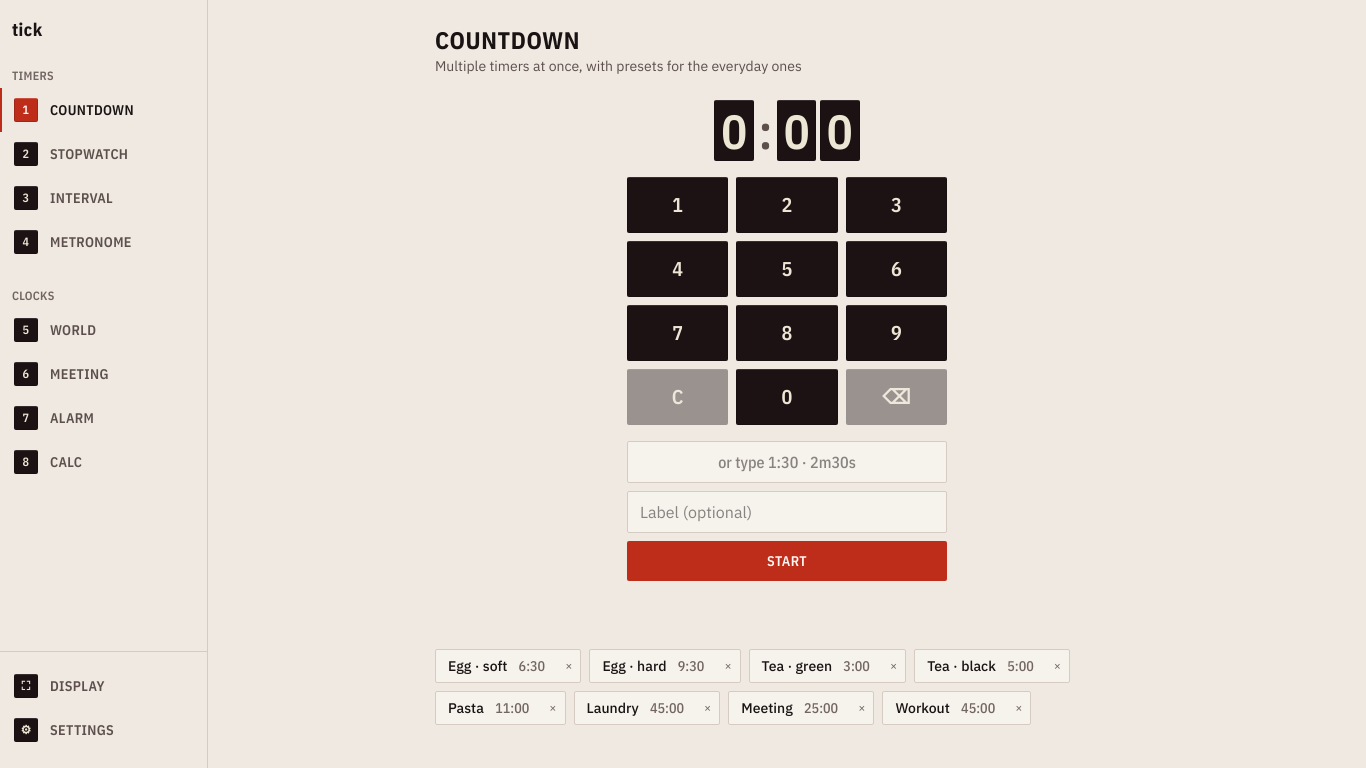
Test: every tool, end to end › metronome: a tempo change keeps the run alive
Press 4
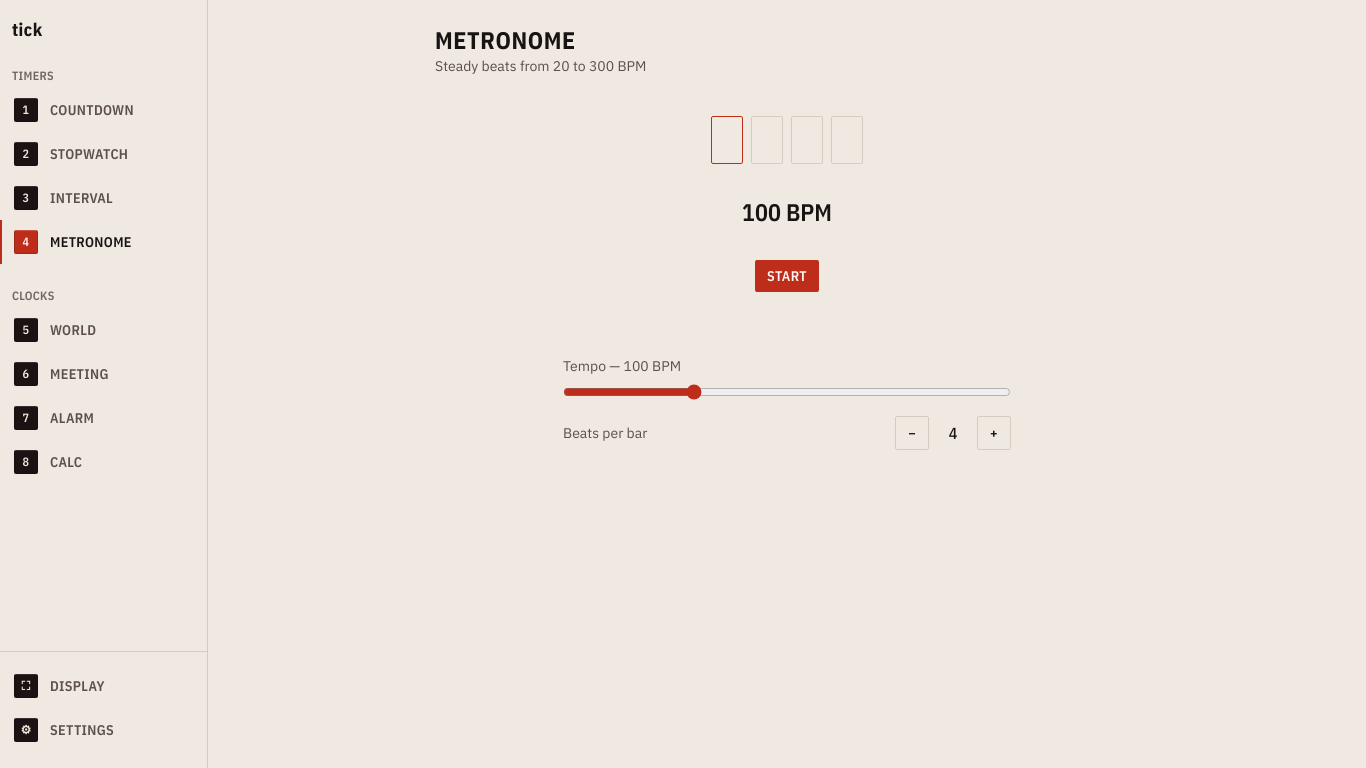
Check: the heading "Metronome" is shown, box [435,24,576,56]
Click the button "Start". click: point(787, 276)
box: [755,260,819,292]
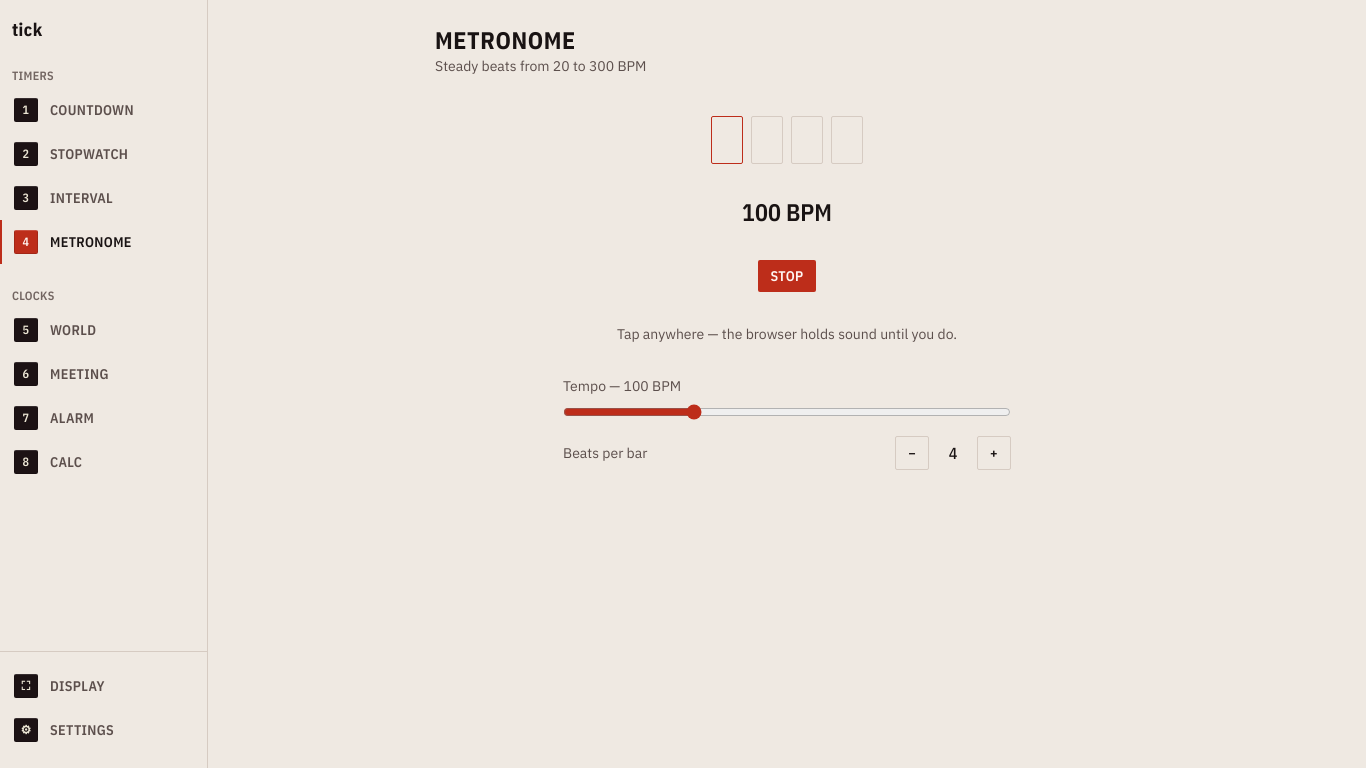
Set the slider labelled "Tempo" to "180". click: point(818, 412)
box: [563,404,1011,420]
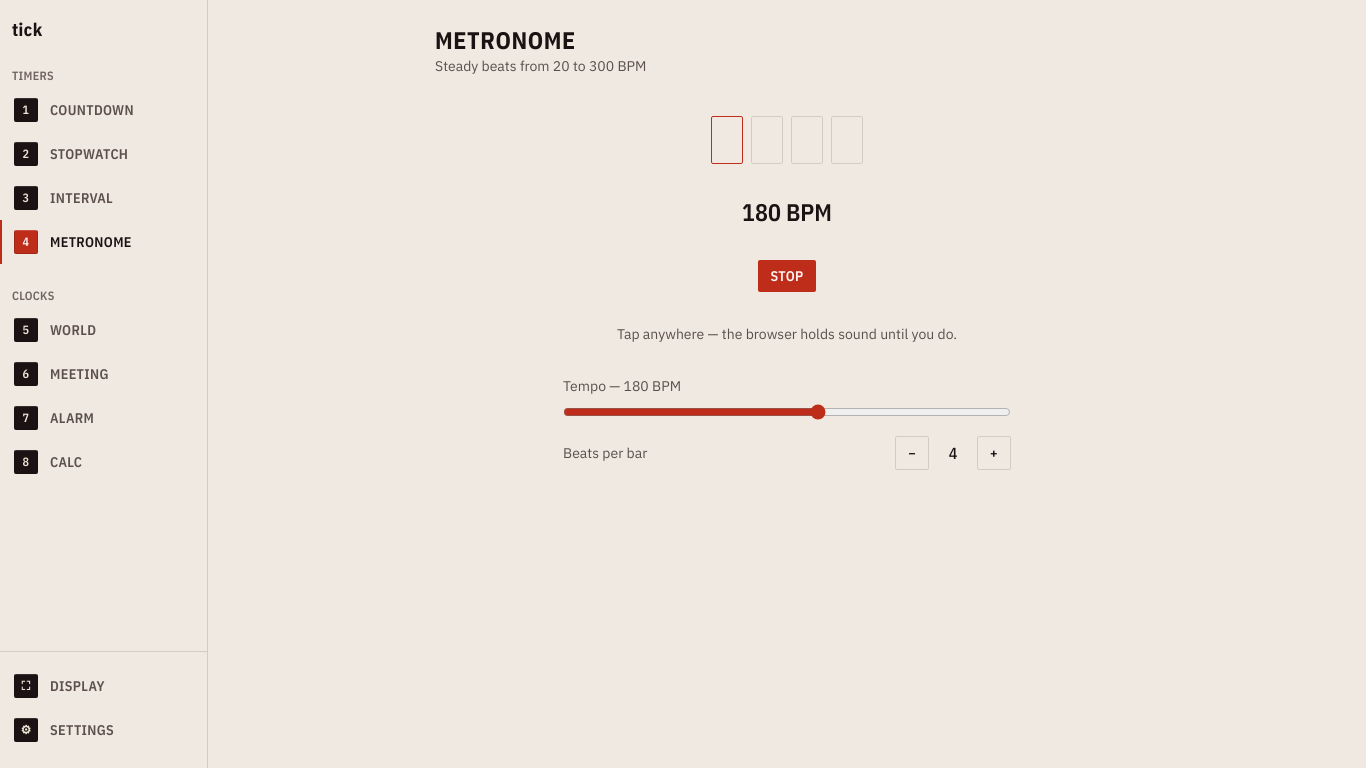
Check: the button "Stop" is shown, box [758,260,816,292]
Check: the text "180 BPM" is shown, box [742,196,832,228]
